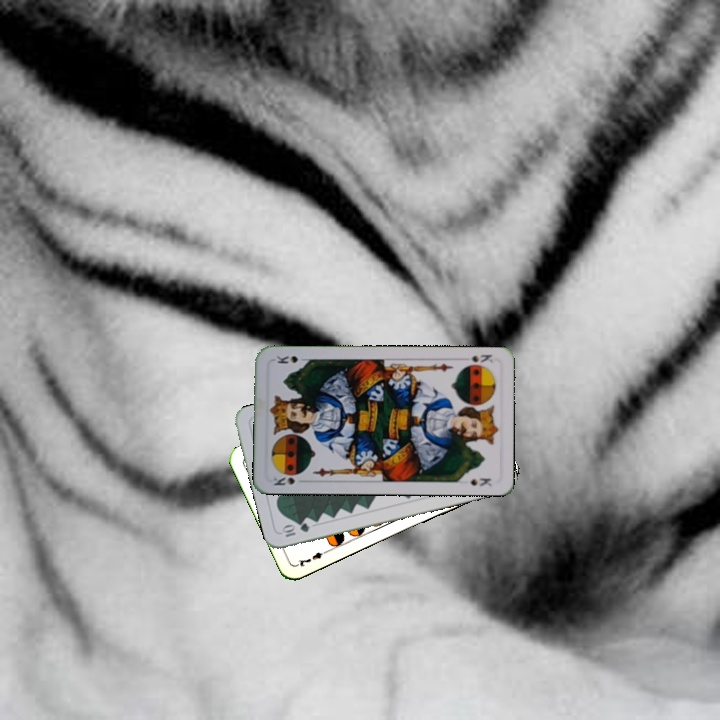E7: (293, 546, 332, 569)
G10: (278, 519, 312, 540)
SK: (269, 473, 308, 488), (466, 351, 495, 365)
